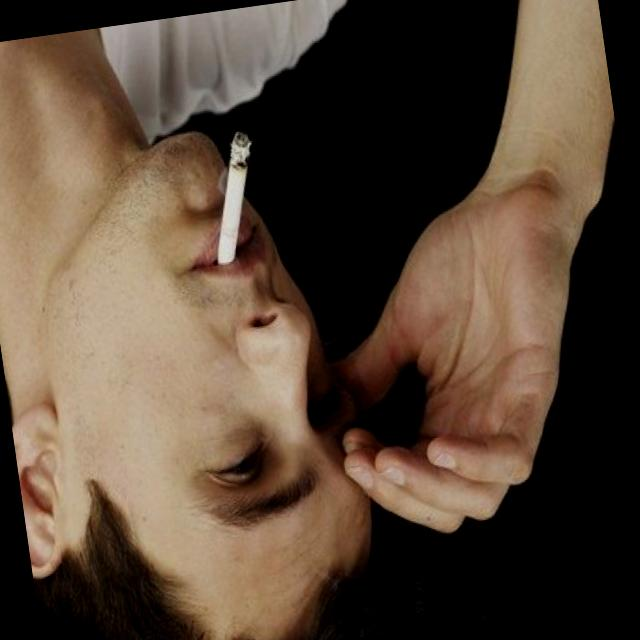cigarette: (194, 116, 276, 276)
